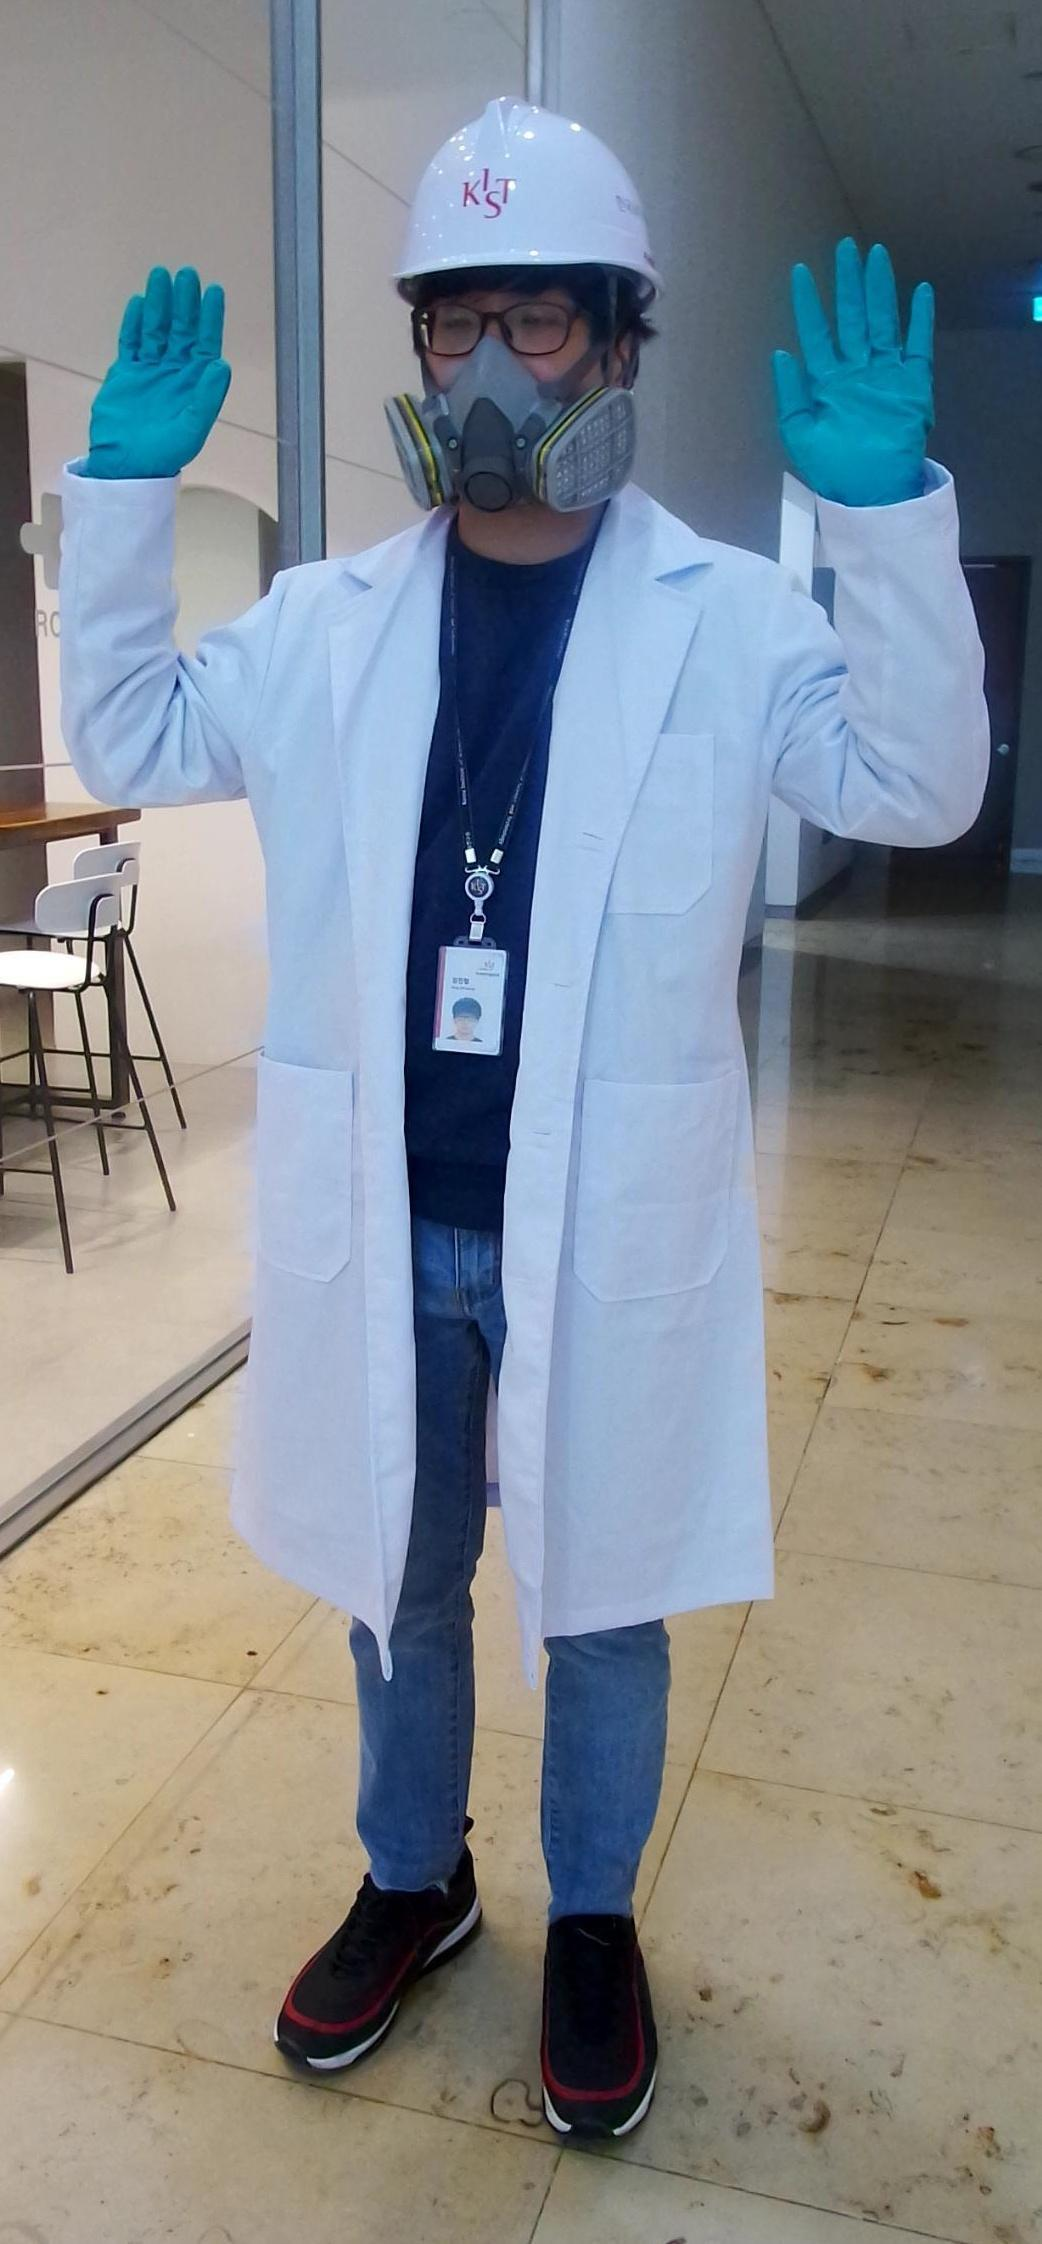lab_coat: (202, 547, 806, 1596)
